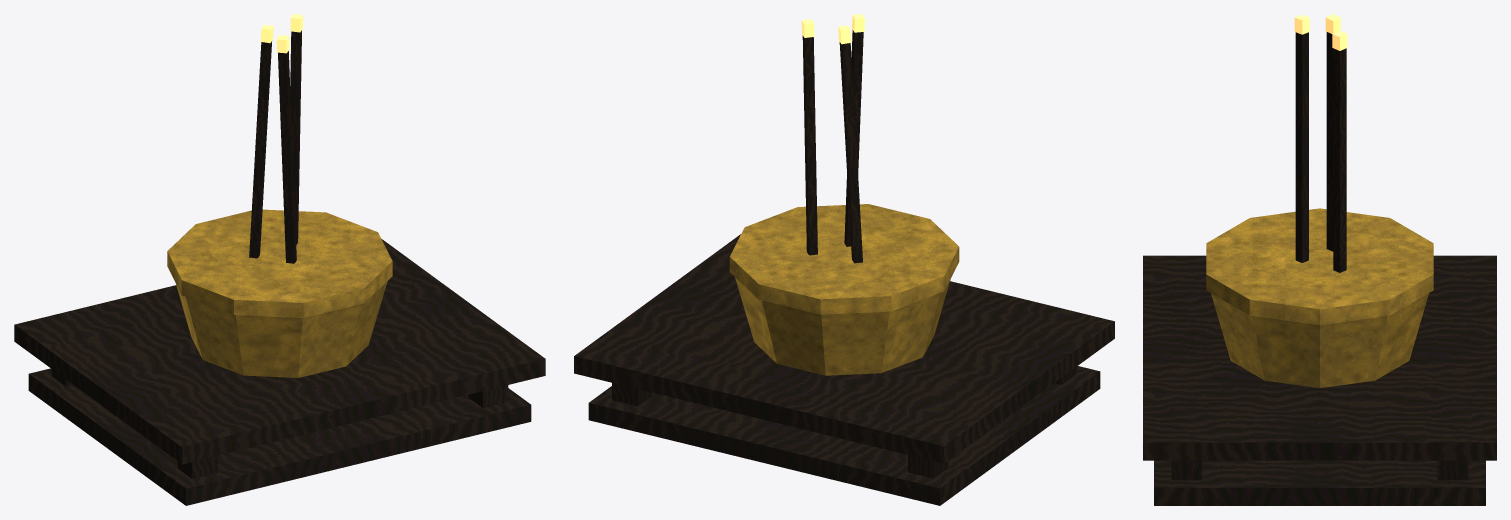
File: incense_stand.glb
3 views of the same model, side by side, from view 1: azimuth 30°, elevation 25°; view 2: azimuth 150°, elevation 25°; view 3: azimuth 270°, elevation 25° (orthographic). The views are drawn at different scales.
Visible parts, largest first — view 1: incense_stand; view 2: incense_stand; view 3: incense_stand.
Part boxes in pixels (bbox=[...]): incense_stand: bbox=[14, 14, 545, 505]; incense_stand: bbox=[574, 14, 1114, 505]; incense_stand: bbox=[1143, 14, 1496, 505].
Bounding box in the file's own units: 0.4 × 0.3961 × 0.32.
5 materials, 4 textured.
